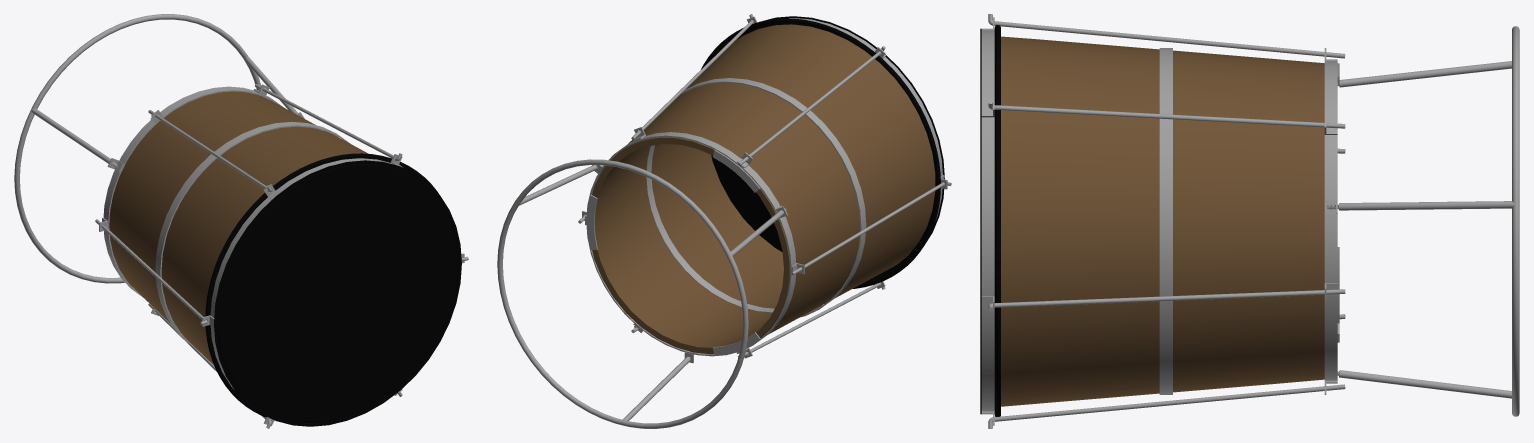
File: Engome.obj
3 views of the same model, side by side, from view 1: azimuth 30°, elevation 25°; view 2: azimuth 150°, elevation 25°; view 3: azimuth 270°, elevation 25° (orthographic). The views are drawn at different scales.
Parts seen in each view (by area): view 1: Couro, Macaíba, Base, Arquilha Externa, Aro de Baixo, Aro de Cima, Esticador 5, Pé 1, Esticador 1, Esticador 6 (1); view 2: Macaíba, Couro, Base, Aro de Baixo, Arquilha Externa, Arquilha Interna, Aro de Cima, Esticador 6 (1), Esticador 1, Esticador 5, Esticador 2, Pé 2 (+1 smaller); view 3: Macaíba, Aro de Cima, Arquilha Externa, Aro de Baixo, Couro, Base, Esticador 3, Esticador 6 (1), Esticador 5, Esticador 4, Pé 3, Pé 2 (+1 smaller).
Part boxes in pixels (x1,y1,x2,y2): Couro: (205, 153, 461, 426); Macaíba: (109, 91, 368, 364); Base: (14, 14, 261, 283); Arquilha Externa: (155, 121, 349, 349); Aro de Baixo: (103, 86, 283, 297); Aro de Cima: (210, 158, 392, 388); Esticador 5: (255, 84, 402, 160); Pé 1: (31, 109, 118, 167); Esticador 1: (95, 219, 207, 325); Esticador 6 (1): (148, 110, 271, 191); Macaíba: (592, 24, 935, 354); Couro: (701, 16, 944, 288); Base: (497, 159, 748, 428); Aro de Baixo: (586, 132, 796, 356); Arquilha Externa: (681, 78, 866, 317); Arquilha Interna: (646, 145, 774, 312); Aro de Cima: (789, 18, 942, 220); Esticador 6 (1): (738, 46, 885, 165); Esticador 1: (791, 182, 951, 275); Esticador 5: (631, 14, 753, 140); Esticador 2: (738, 282, 885, 357); Pé 2: (622, 356, 690, 420); Macaíba: (1001, 36, 1324, 406); Aro de Cima: (981, 30, 994, 411); Arquilha Externa: (1159, 48, 1172, 394); Aro de Baixo: (1324, 61, 1339, 380); Couro: (980, 25, 1000, 416); Base: (1512, 26, 1519, 416); Esticador 3: (988, 384, 1345, 428); Esticador 6 (1): (988, 14, 1345, 58); Esticador 5: (988, 100, 1345, 128); Esticador 4: (988, 289, 1345, 311); Pé 3: (1327, 201, 1515, 210); Pé 2: (1337, 370, 1511, 398).
Bounding box in the file's own units: 70.15 × 66.27 × 90.84.
